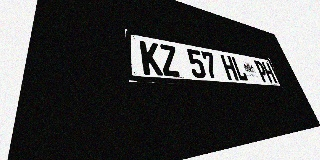5: (186, 49, 207, 79)
7: (200, 51, 220, 79)
H: (220, 54, 239, 81), (261, 62, 277, 83)
K: (139, 40, 163, 76)
L: (231, 56, 249, 81)
P: (253, 60, 270, 83)
Z: (158, 44, 181, 77)
